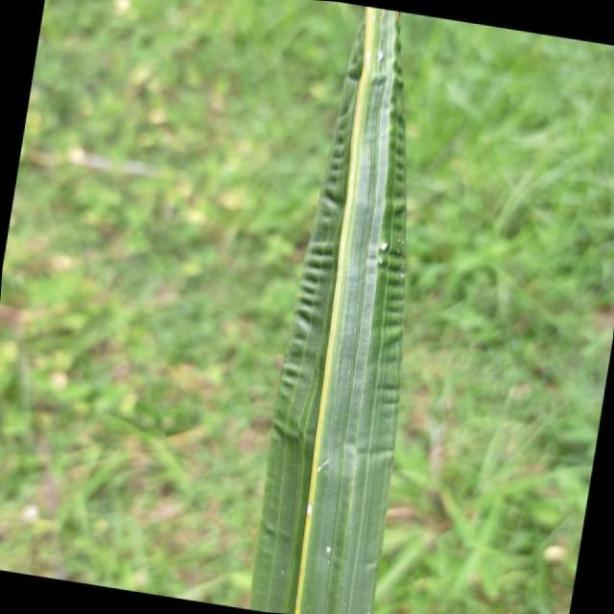Boron: (249, 0, 411, 614)
